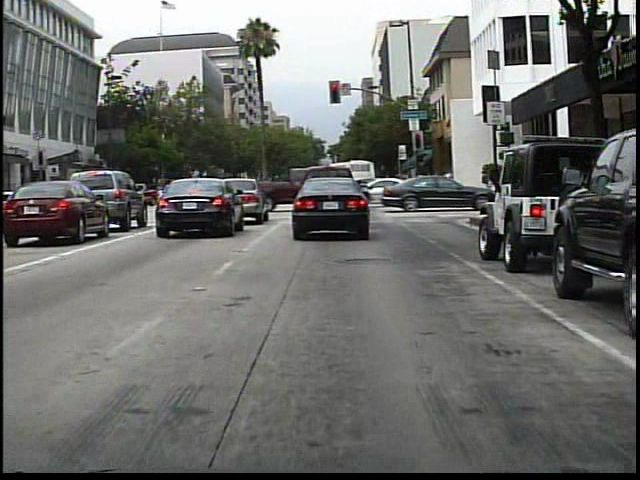person: (426, 166, 441, 198), (441, 167, 457, 196)
